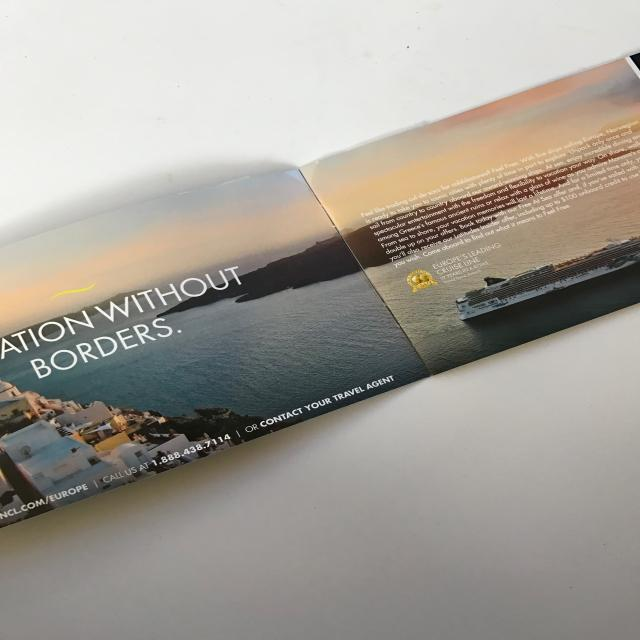Paper: (0, 45, 640, 532)
